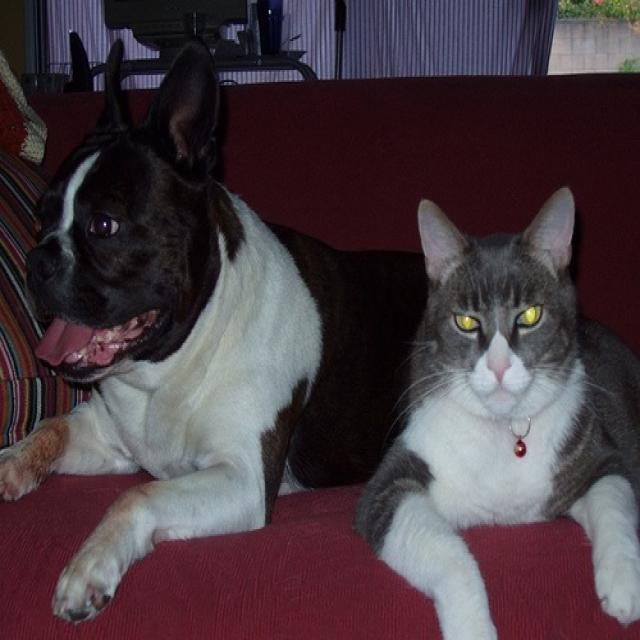cat: (359, 203, 640, 640)
dog: (1, 40, 422, 624)
sofa: (1, 82, 640, 640)
tvmonitor: (106, 1, 249, 27)
